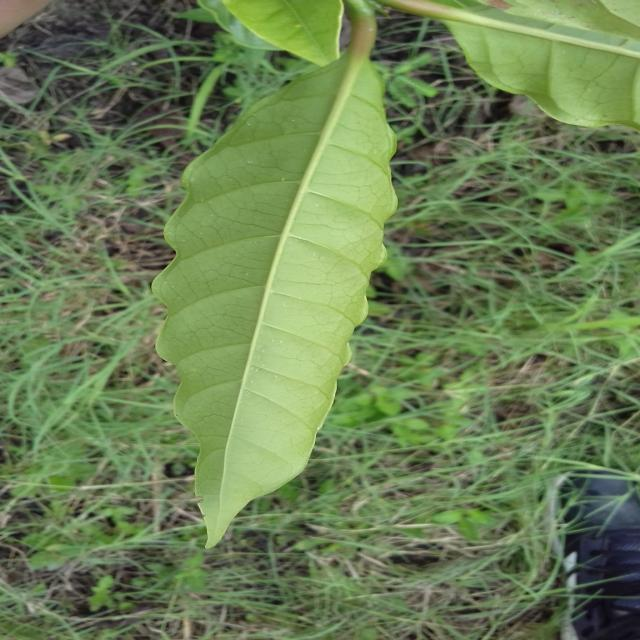Sanas: (152, 0, 398, 550)
